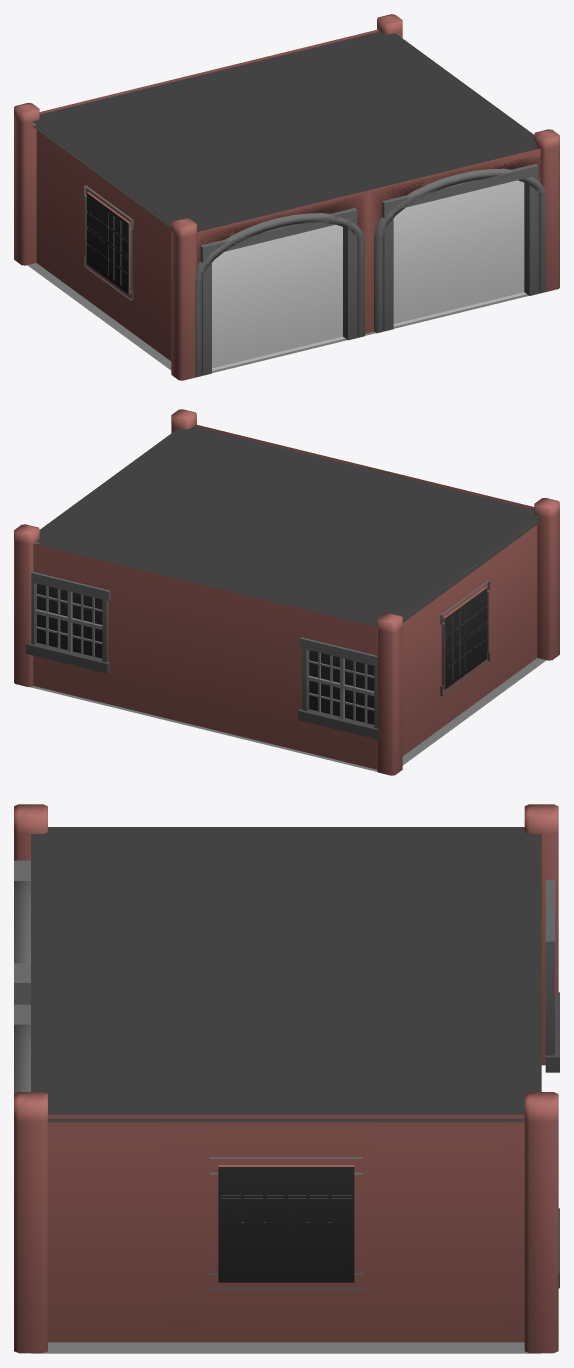
Rendered from compressor-house.glb.
3 views of the same model, one above another, from view 1: azimuth 30°, elevation 25°; view 2: azimuth 150°, elevation 25°; view 3: azimuth 270°, elevation 25° (orthographic). The views are drawn at different scales.
Visible parts, largest first — view 1: TreyIndustrialCompressorHouseVisual; view 2: TreyIndustrialCompressorHouseVisual; view 3: TreyIndustrialCompressorHouseVisual.
Part boxes in pixels (<box>): TreyIndustrialCompressorHouseVisual: <box>14,14,559,380</box>; TreyIndustrialCompressorHouseVisual: <box>14,409,559,775</box>; TreyIndustrialCompressorHouseVisual: <box>14,804,559,1353</box>.
Size of the model in its own units: 8.4 by 3.3 by 6.42.
Materials: 1 (1 with a texture image).
